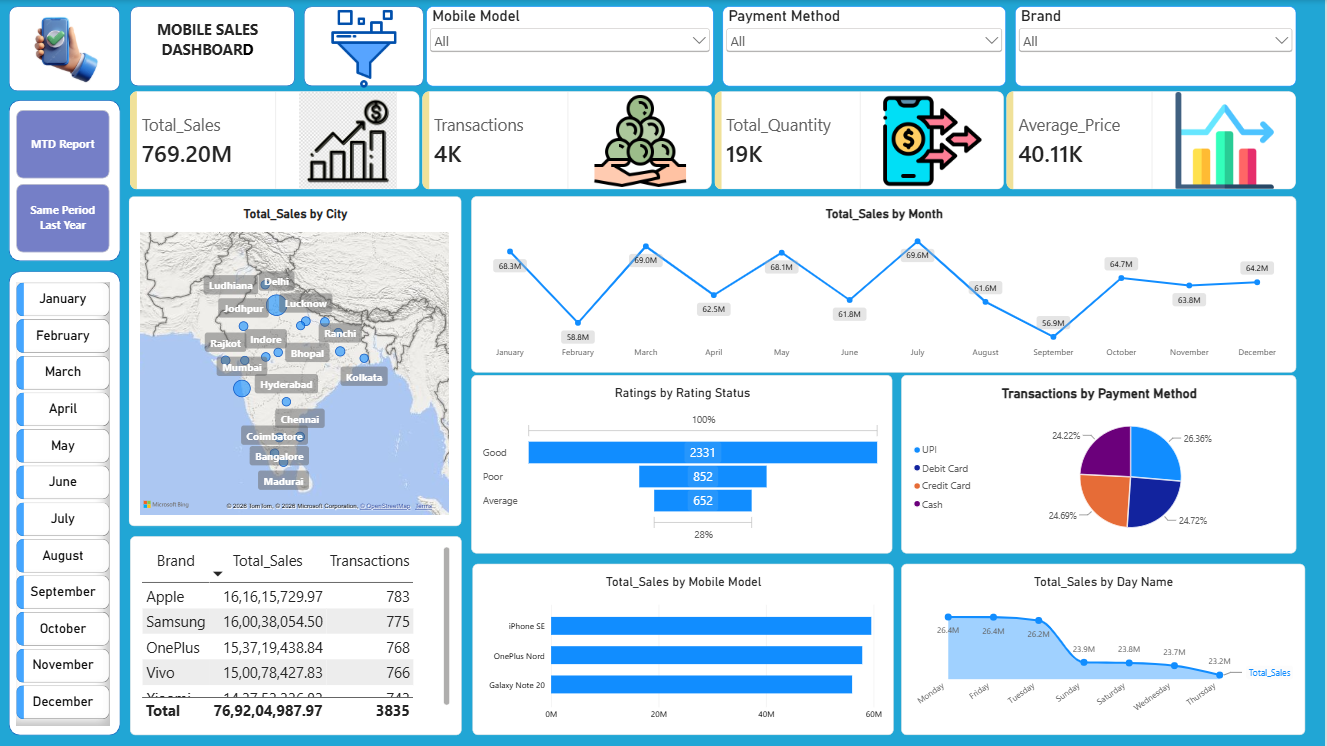

The dashboard page shown, as its layout file describes it:
{"tool":"powerbi","page":{"name":"Dashboard","canvas":[1920,1080],"ordinal":0},"visuals":[{"type":"shape","box":[12.7,9,161.1,123.1],"z":0},{"type":"image","box":[0,12.7,188.2,115.8],"z":1000},{"type":"shape","box":[12,145.6,161.5,233.3],"z":2000},{"type":"shape","box":[12,392.9,161.5,672],"z":3000},{"type":"advancedSlicerVisual","fields":{"Values":["Custum_Calender.Date.Variation.Date Hierarchy.Month"]},"box":[23.5,409,135.7,642.4],"z":4000},{"type":"cardVisual","fields":{"Data":["Sales_data.Total_Sales","Sales_data.Transactions","Sales_data.Total_Quantity","Sales_data.Average_Price"]},"box":[188.2,132.1,1688.4,143],"z":5000},{"type":"slicer","fields":{"Values":["Sales_data.Mobile Model"]},"box":[617.1,9,416.2,115.8],"z":6000},{"type":"slicer","fields":{"Values":["Sales_data.Payment Method"]},"box":[1046,9,410.8,115.8],"z":7000},{"type":"slicer","fields":{"Values":["Sales_data.Brand"]},"box":[1469.4,9,407.2,115.8],"z":8000},{"type":"shape","box":[439.7,9,173.7,115.8],"z":9000},{"type":"image","box":[456,12.7,141.2,115.8],"z":10000},{"type":"shape","box":[188.2,9,238.9,115.8],"z":11000},{"type":"textbox","box":[217.2,28,166.5,92.3],"z":12000},{"type":"map","fields":{"Category":["Sales_data.City"],"Size":["Sales_data.Total_Sales"]},"box":[186.4,284.1,481.4,477.8],"z":13000},{"type":"lineChart","fields":{"Y":["Sales_data.Total_Sales"],"Category":["Custum_Calender.Date.Variation.Date Hierarchy.Month"]},"box":[682.2,284.1,1194.4,255.2],"z":14000},{"type":"funnel","title":"Ratings by Rating Status","fields":{"Y":["CountNonNull(Sales_data.Customer Ratings)"],"Category":["Sales_data.Rating Status"]},"box":[682.2,542.9,609.9,258.8],"z":15000},{"type":"pieChart","fields":{"Category":["Sales_data.Payment Method"],"Y":["Sales_data.Transactions"]},"box":[1304.8,542.9,571.9,258.8],"z":16000},{"type":"clusteredBarChart","fields":{"Category":["Sales_data.Mobile Model"],"Y":["Sales_data.Total_Sales"]},"box":[684,816,609.9,247.9],"z":17000},{"type":"areaChart","fields":{"Y":["Sales_data.Total_Sales"],"Category":["Custum_Calender.Day Name"]},"box":[1304.8,816.2,584.5,247.9],"z":18000},{"type":"tableEx","fields":{"Values":["Sales_data.Brand","Sales_data.Total_Sales","Sales_data.Transactions"]},"box":[189,776,480,288],"z":18001},{"type":"pageNavigator","box":[22.6,158.5,135.8,207.5],"z":18002}]}

Visuals, with their boxes in screenshot pixels (x1, y1, x2, y2), scaled from the page's 1920x1080 canvas onto the 1327x746 screenshot:
shape: BBox(9, 6, 120, 91)
image: BBox(0, 9, 130, 89)
shape: BBox(8, 101, 120, 262)
shape: BBox(8, 271, 120, 736)
advancedSlicerVisual - Custum_Calender.Date.Variation.Date Hierarchy.Month: BBox(16, 283, 110, 726)
cardVisual - Sales_data.Total_Sales x Sales_data.Transactions: BBox(130, 91, 1297, 190)
slicer - Sales_data.Mobile Model: BBox(427, 6, 714, 86)
slicer - Sales_data.Payment Method: BBox(723, 6, 1007, 86)
slicer - Sales_data.Brand: BBox(1016, 6, 1297, 86)
shape: BBox(304, 6, 424, 86)
image: BBox(315, 9, 413, 89)
shape: BBox(130, 6, 295, 86)
textbox: BBox(150, 19, 265, 83)
map - Sales_data.City x Sales_data.Total_Sales: BBox(129, 196, 462, 526)
lineChart - Sales_data.Total_Sales x Custum_Calender.Date.Variation.Date Hierarchy.Month: BBox(471, 196, 1297, 373)
"Ratings by Rating Status" funnel: BBox(471, 375, 893, 554)
pieChart - Sales_data.Payment Method x Sales_data.Transactions: BBox(902, 375, 1297, 554)
clusteredBarChart - Sales_data.Mobile Model x Sales_data.Total_Sales: BBox(473, 564, 894, 735)
areaChart - Sales_data.Total_Sales x Custum_Calender.Day Name: BBox(902, 564, 1306, 735)
tableEx - Sales_data.Brand x Sales_data.Total_Sales: BBox(131, 536, 462, 735)
pageNavigator: BBox(16, 109, 109, 253)
